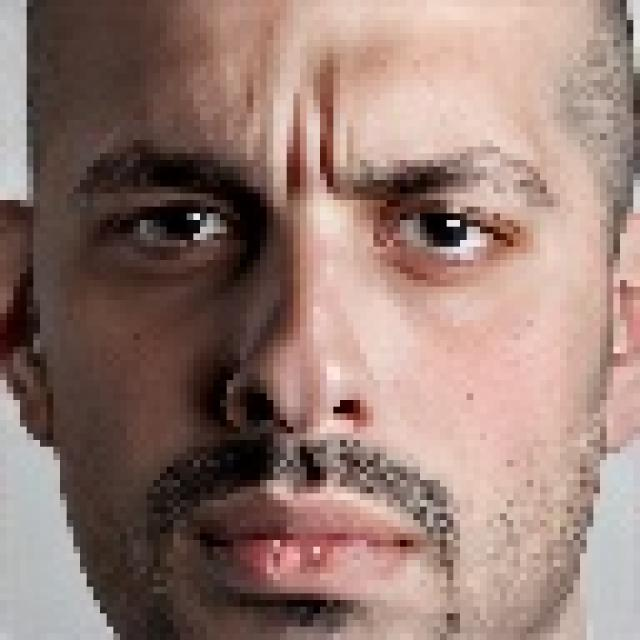angry: (10, 23, 564, 640)
